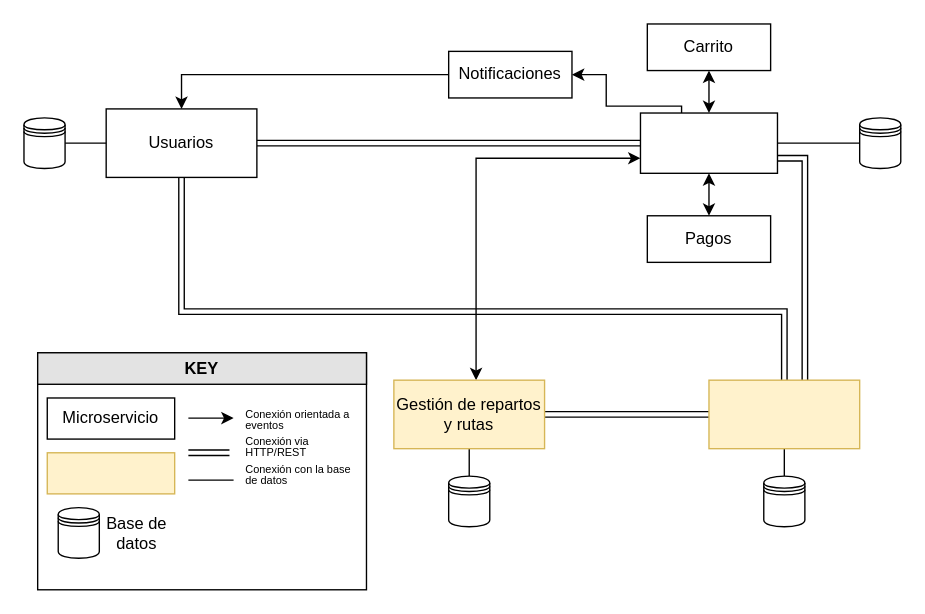
Image size: 925x614. Some labels were removed from this diagram. Here are the shapes that lost their labels. From the top down, the centre of each, then its label:
the point at 708,142: Pedidos
the point at 784,414: Estadisticas
the point at 110,472: Servicio no desarrollado
